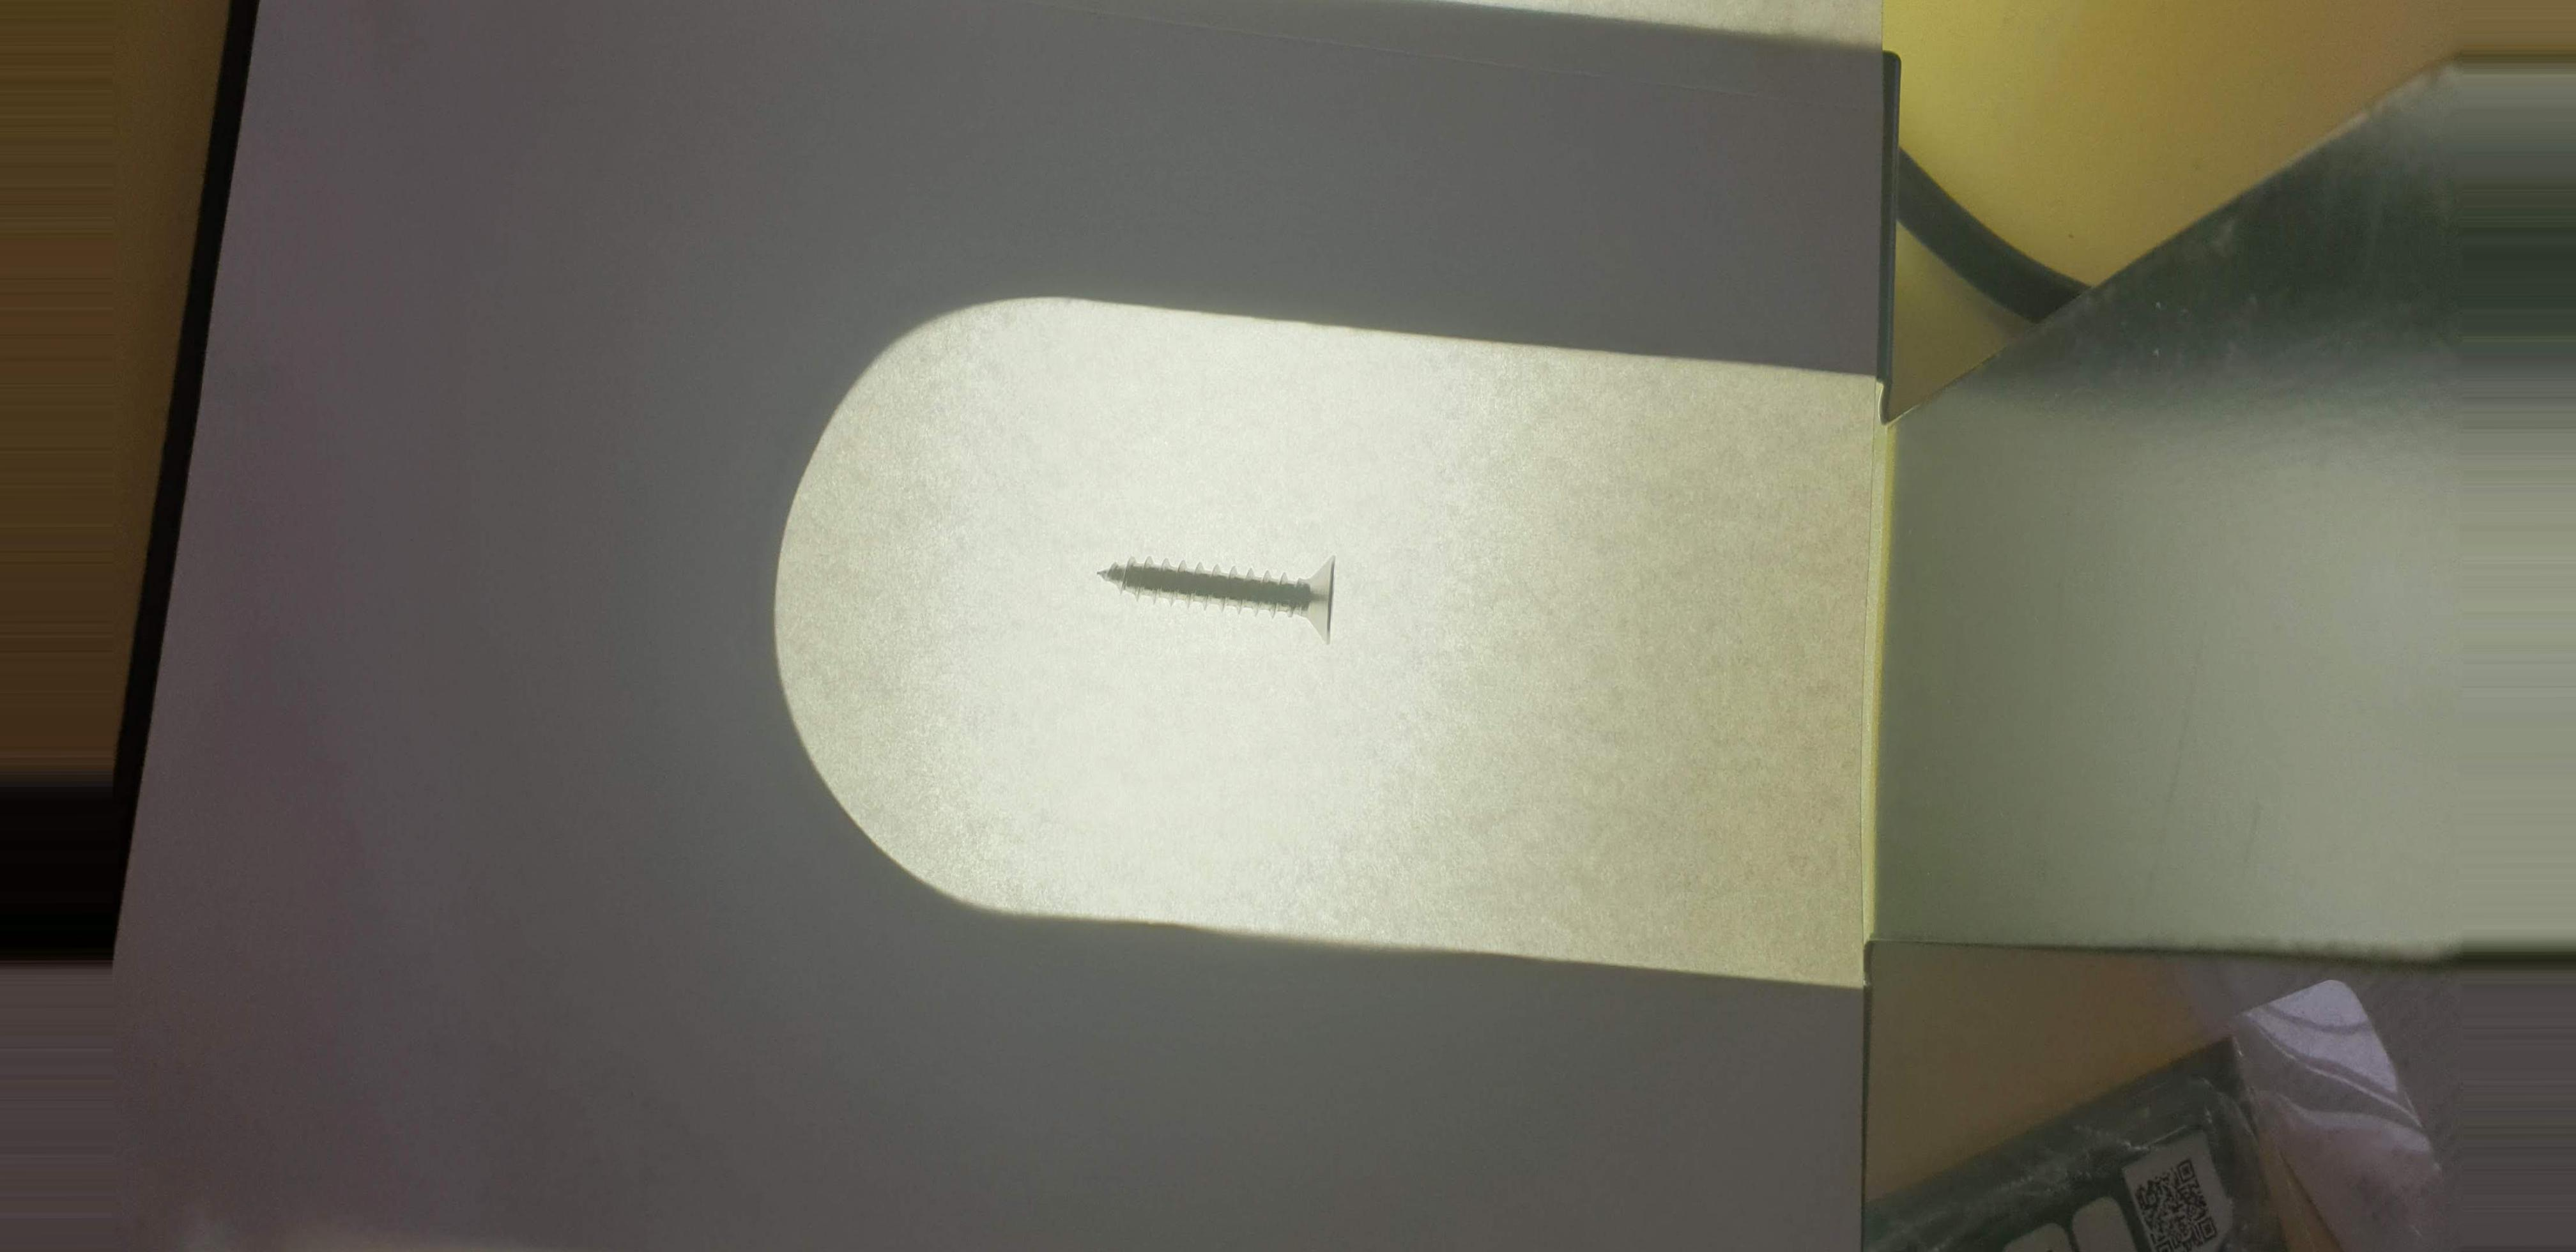S004: (1079, 518, 1382, 661)
